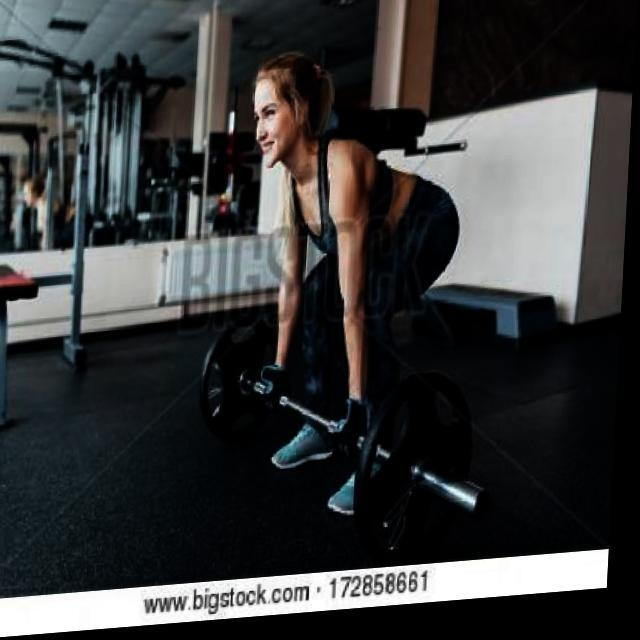barbell: (350, 372, 514, 578)
